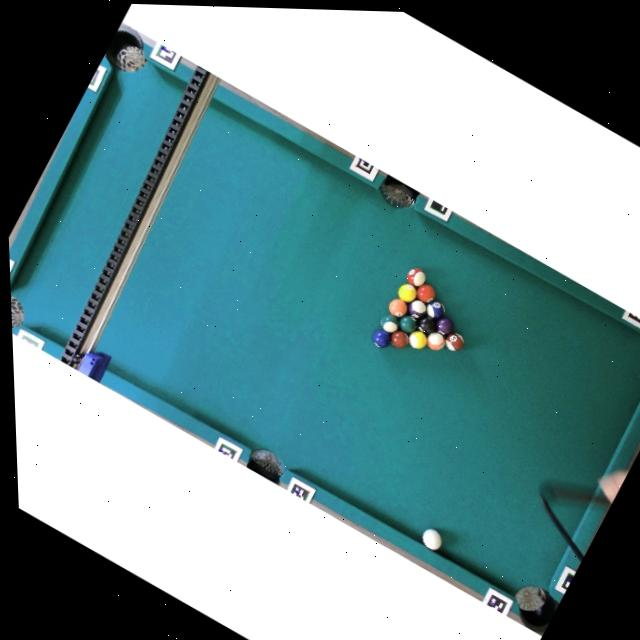cue ball: (416, 523, 449, 555)
other: (368, 326, 395, 352), (422, 328, 448, 355), (432, 313, 459, 339), (441, 329, 467, 356), (376, 310, 403, 336), (404, 297, 431, 323), (412, 280, 438, 307), (405, 327, 431, 354), (413, 312, 440, 338), (396, 312, 422, 338), (394, 280, 420, 306), (386, 327, 413, 352), (422, 297, 448, 322), (385, 296, 411, 321), (403, 265, 429, 290)
